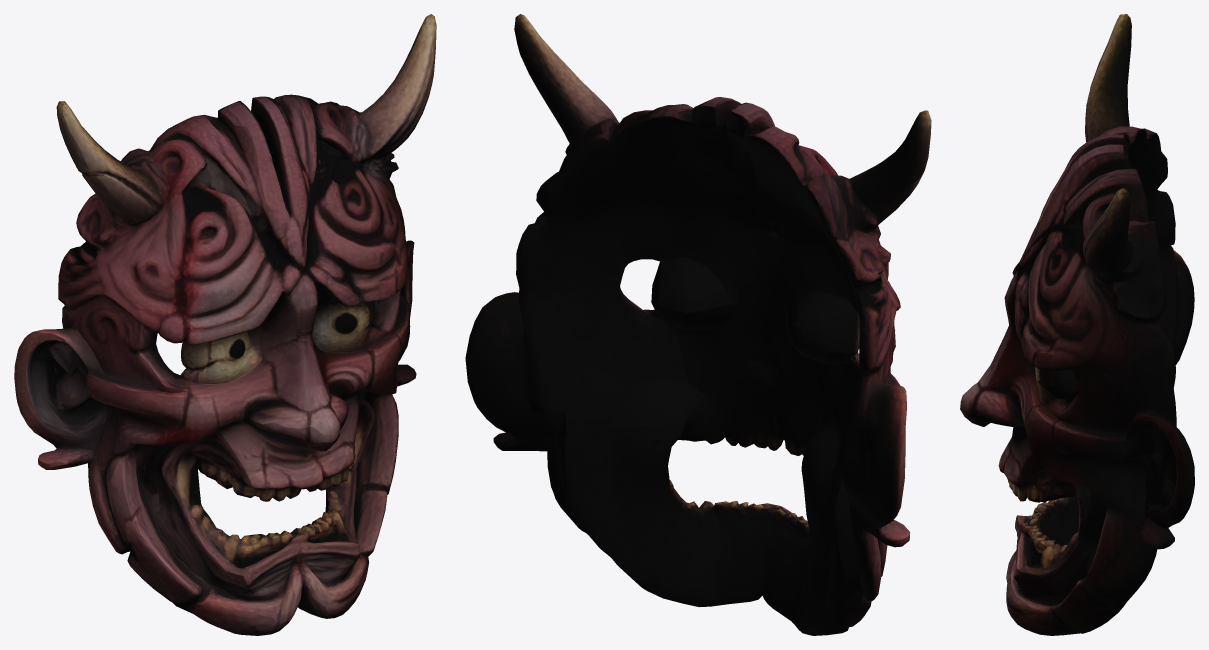
Rendered from Hanyamask.glb.
3 renders of one model, left to right at view 1: azimuth 30°, elevation 25°; view 2: azimuth 150°, elevation 25°; view 3: azimuth 270°, elevation 25°, orthographic. The views are drawn at different scales.
Visible parts, largest first — view 1: hanyamask; view 2: hanyamask; view 3: hanyamask.
Part boxes in pixels (x1=…): hanyamask: x1=14, y1=14, x2=436, y2=635; hanyamask: x1=465, y1=14, x2=931, y2=635; hanyamask: x1=960, y1=14, x2=1194, y2=635.
Bounding box in the file's own units: 0.15 × 0.191 × 0.08.
1 material, 1 textured.
